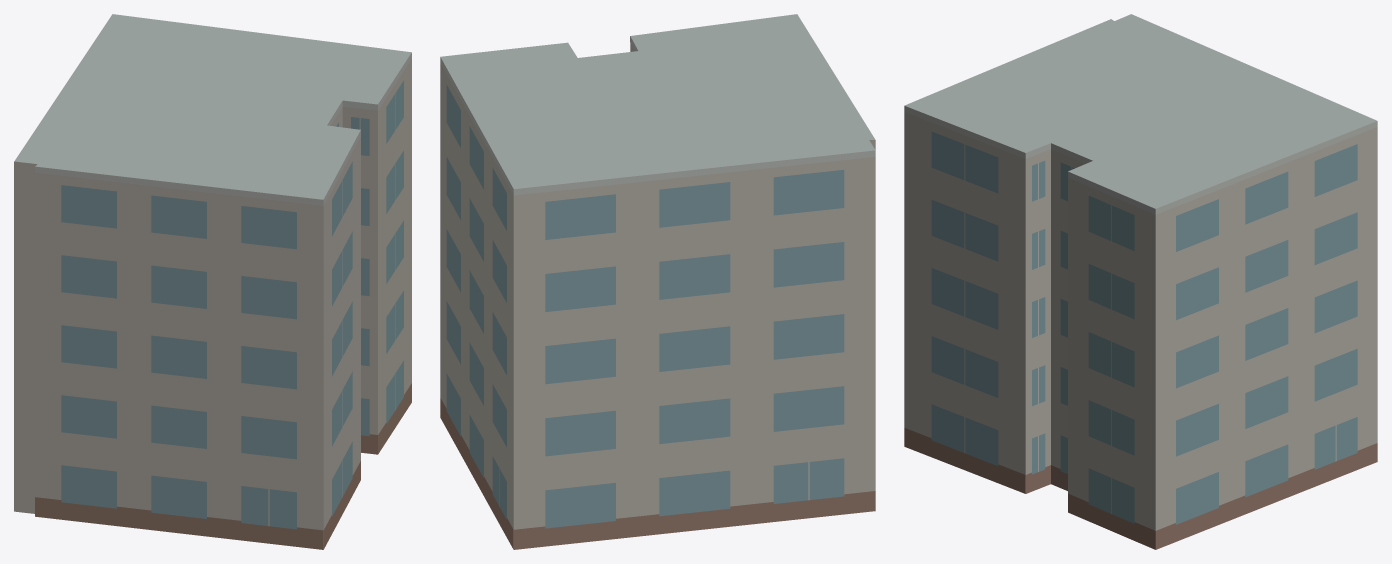
The model's file is survey-upis-32725834.glb.
3 views of the same model, side by side, from view 1: azimuth 30°, elevation 25°; view 2: azimuth 150°, elevation 25°; view 3: azimuth 270°, elevation 25° (orthographic). The views are drawn at different scales.
Visible parts, largest first — view 1: survey-upis-32725834.tmp; view 2: survey-upis-32725834.tmp; view 3: survey-upis-32725834.tmp.
Boxes of the visible parts, left/top/right/bottom form: survey-upis-32725834.tmp: left=14, top=14, right=411, bottom=549; survey-upis-32725834.tmp: left=440, top=14, right=875, bottom=549; survey-upis-32725834.tmp: left=904, top=14, right=1377, bottom=549.
Bounding box in the file's own units: 17.17 × 14 × 17.63.
